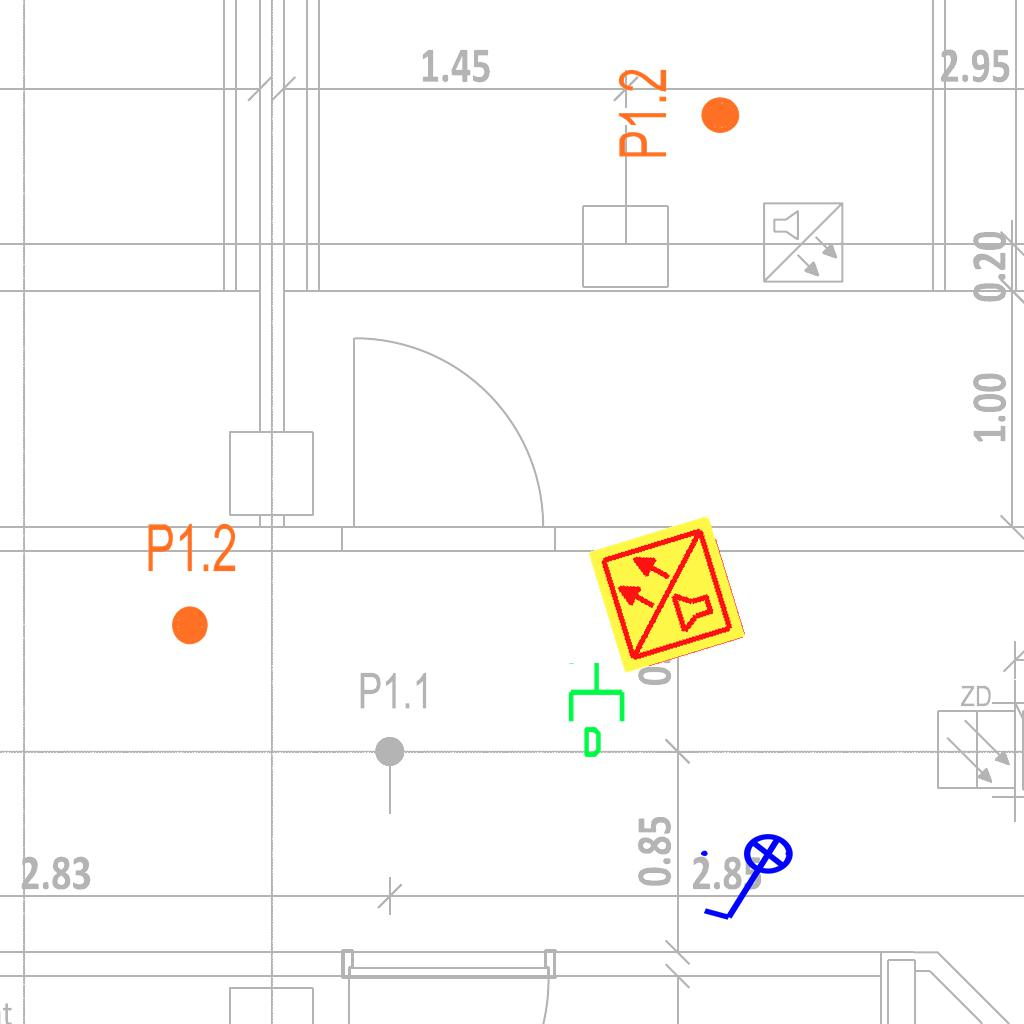Ausschalter_beleuchtet: (695, 832, 807, 928)
Datenanschluss_einfach: (564, 660, 633, 760)
Downlight_LED_Einbauleuchten_Flur: (615, 67, 743, 160), (145, 520, 238, 648)
OKW_Multisensormelder_(Kombination_optischer_Rauch-Kahlenmonoxid_Waerme-Melder): (584, 511, 750, 677)
